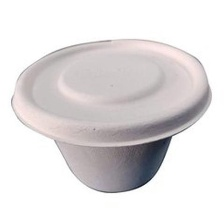plastic_box: (6, 27, 218, 200)
